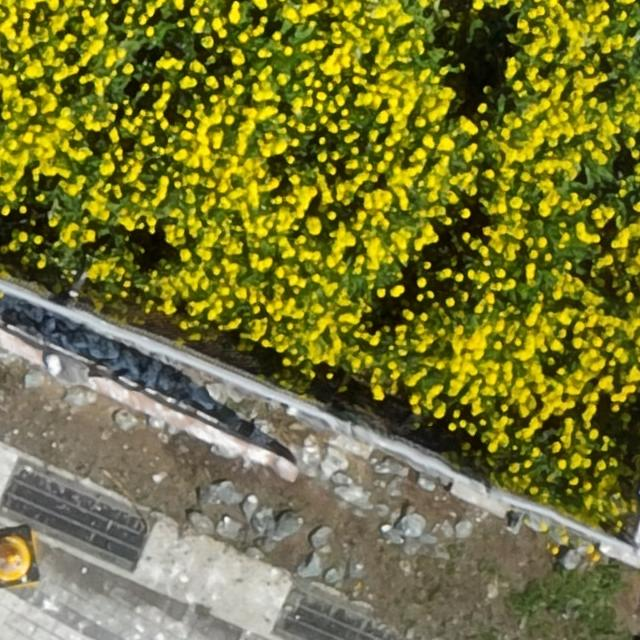umineko: (42, 348, 121, 388), (62, 283, 80, 307)
